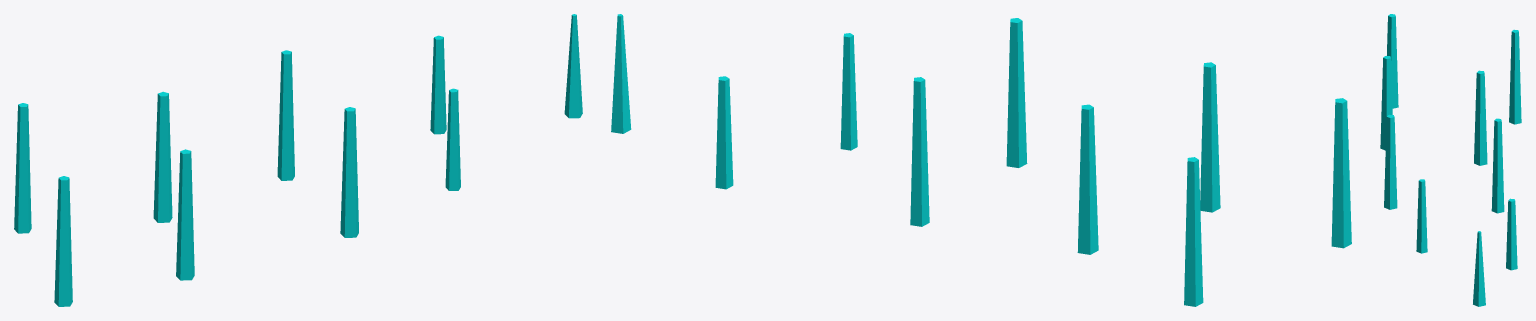
Rendered from SM_Env_Tree_Group_04_Collision.fbx.
The picture shows the model from 3 angles, left to right: view 1: azimuth 30°, elevation 25°; view 2: azimuth 150°, elevation 25°; view 3: azimuth 270°, elevation 25°; orthographic projection. The views are drawn at different scales.
Parts seen in each view (by area): view 1: SM_Env_Tree_Group_04_Collision; view 2: SM_Env_Tree_Group_04_Collision; view 3: SM_Env_Tree_Group_04_Collision.
Part boxes in pixels (left/top/right/bottom): SM_Env_Tree_Group_04_Collision: left=14, top=14, right=582, bottom=306; SM_Env_Tree_Group_04_Collision: left=611, top=14, right=1351, bottom=306; SM_Env_Tree_Group_04_Collision: left=1380, top=14, right=1521, bottom=306.
Size of the model in its own units: 1731 by 353 by 499.
